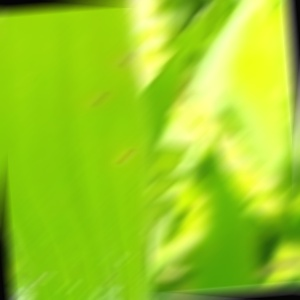Bacterial_Leaf_Blight: (111, 146, 138, 166), (53, 281, 82, 293), (92, 91, 112, 107), (115, 52, 136, 66), (31, 272, 55, 284), (105, 275, 118, 285)
